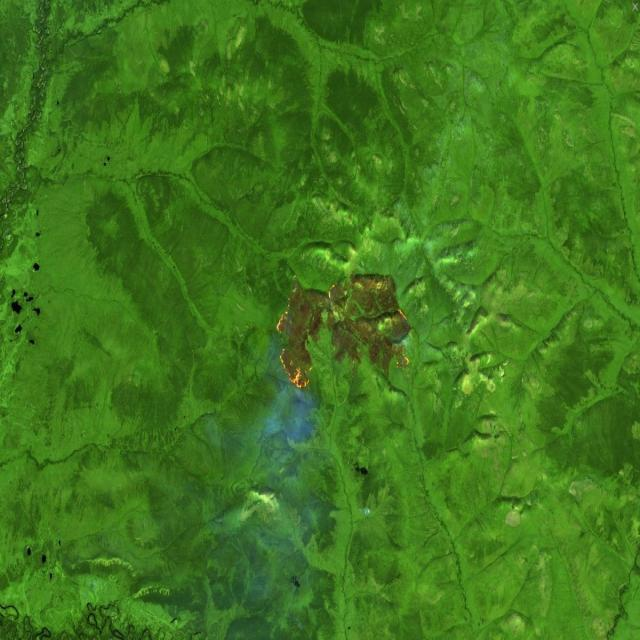fire: (272, 269, 413, 390)
